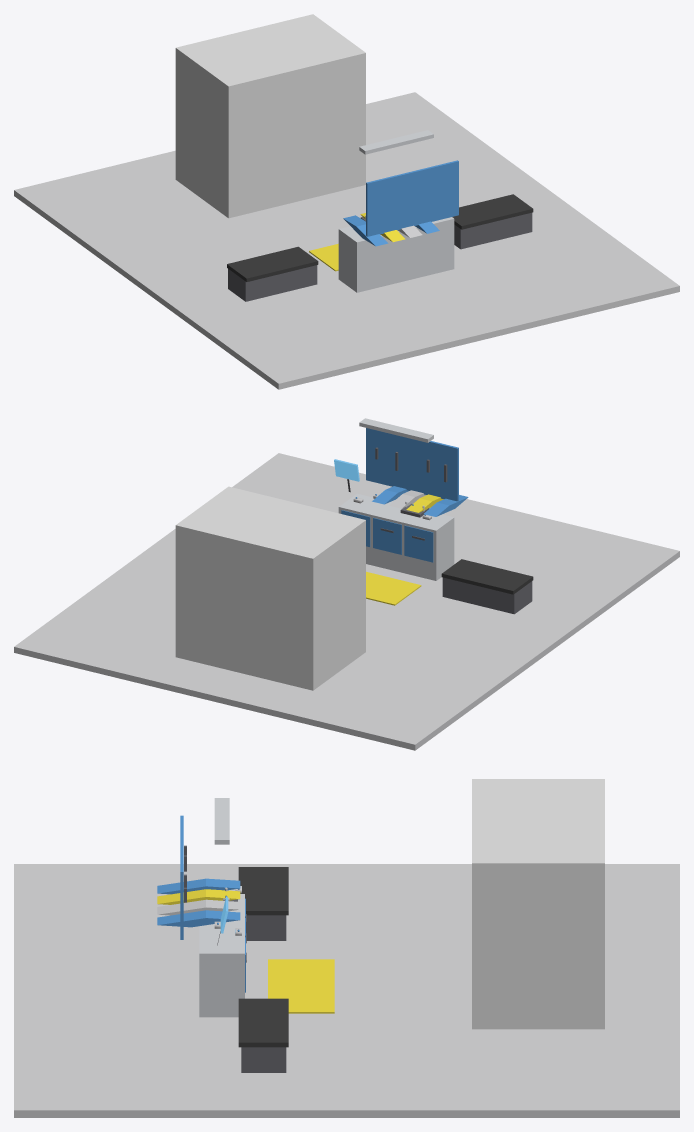
Rendered from 02_assembly_station.glb.
3 renders of one model, top to bottom at view 1: azimuth 30°, elevation 25°; view 2: azimuth 150°, elevation 25°; view 3: azimuth 270°, elevation 25°, orthographic. The views are drawn at different scales.
Parts seen in each view (by area): view 1: PHYS_Assembly_FloorPatch, TRIGGER_Info_Assembly, STATION_02_Assembly_BenchCabinet, STATION_02_Assembly_ToolRack, CONVEYOR_Assembly_Input_Frame, CONVEYOR_Assembly_Input, CONVEYOR_Assembly_Output, CONVEYOR_Assembly_Output_Frame, STATION_02_Assembly_TaskLight; view 2: PHYS_Assembly_FloorPatch, TRIGGER_Info_Assembly, STATION_02_Assembly_ToolRack, STATION_02_Assembly_BenchCabinet, CONVEYOR_Assembly_Input_Frame, CONVEYOR_Assembly_Input, STATION_02_Assembly_OperatorZone, STATION_02_Assembly_Drawer_1, STATION_02_Assembly_Drawer_2, STATION_02_Assembly_TaskLight; view 3: PHYS_Assembly_FloorPatch, TRIGGER_Info_Assembly, STATION_02_Assembly_BenchCabinet, STATION_02_Assembly_OperatorZone, CONVEYOR_Assembly_Output, CONVEYOR_Assembly_Input, CONVEYOR_Assembly_Output_Frame, CONVEYOR_Assembly_Input_Frame, STATION_02_Assembly_Bin_4, STATION_02_Assembly_Bin_1, STATION_02_Assembly_Bin_3, STATION_02_Assembly_Bin_2 (+1 smaller).
Part boxes in pixels (bbox=[...]): PHYS_Assembly_FloorPatch: bbox=[14, 92, 679, 389]; TRIGGER_Info_Assembly: bbox=[175, 14, 365, 218]; STATION_02_Assembly_BenchCabinet: bbox=[338, 217, 454, 292]; STATION_02_Assembly_ToolRack: bbox=[366, 160, 458, 236]; CONVEYOR_Assembly_Input_Frame: bbox=[228, 265, 317, 301]; CONVEYOR_Assembly_Input: bbox=[227, 246, 318, 281]; CONVEYOR_Assembly_Output: bbox=[452, 194, 533, 229]; CONVEYOR_Assembly_Output_Frame: bbox=[454, 212, 532, 249]; STATION_02_Assembly_TaskLight: bbox=[359, 130, 433, 154]; PHYS_Assembly_FloorPatch: bbox=[14, 453, 679, 750]; TRIGGER_Info_Assembly: bbox=[175, 486, 365, 690]; STATION_02_Assembly_ToolRack: bbox=[366, 428, 458, 501]; STATION_02_Assembly_BenchCabinet: bbox=[338, 493, 454, 580]; CONVEYOR_Assembly_Input_Frame: bbox=[442, 577, 532, 614]; CONVEYOR_Assembly_Input: bbox=[441, 559, 533, 594]; STATION_02_Assembly_OperatorZone: bbox=[366, 571, 421, 605]; STATION_02_Assembly_Drawer_1: bbox=[404, 525, 433, 562]; STATION_02_Assembly_Drawer_2: bbox=[373, 517, 401, 554]; STATION_02_Assembly_TaskLight: bbox=[359, 418, 433, 442]; PHYS_Assembly_FloorPatch: bbox=[14, 864, 679, 1117]; TRIGGER_Info_Assembly: bbox=[472, 779, 604, 1029]; STATION_02_Assembly_BenchCabinet: bbox=[199, 894, 244, 1017]; STATION_02_Assembly_OperatorZone: bbox=[268, 959, 334, 1013]; CONVEYOR_Assembly_Output: bbox=[238, 998, 288, 1047]; CONVEYOR_Assembly_Input: bbox=[238, 867, 288, 915]; CONVEYOR_Assembly_Output_Frame: bbox=[241, 1047, 286, 1072]; CONVEYOR_Assembly_Input_Frame: bbox=[246, 915, 286, 940]; STATION_02_Assembly_Bin_4: bbox=[157, 910, 240, 927]; STATION_02_Assembly_Bin_1: bbox=[157, 878, 240, 894]; STATION_02_Assembly_Bin_3: bbox=[157, 899, 240, 915]; STATION_02_Assembly_Bin_2: bbox=[157, 889, 240, 904].
Size of what is drawn, in the model's own units: 7 by 2.33 by 8.
